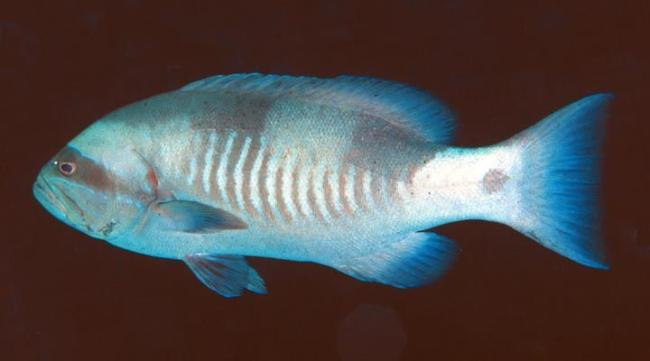fish: (32, 71, 612, 299)
